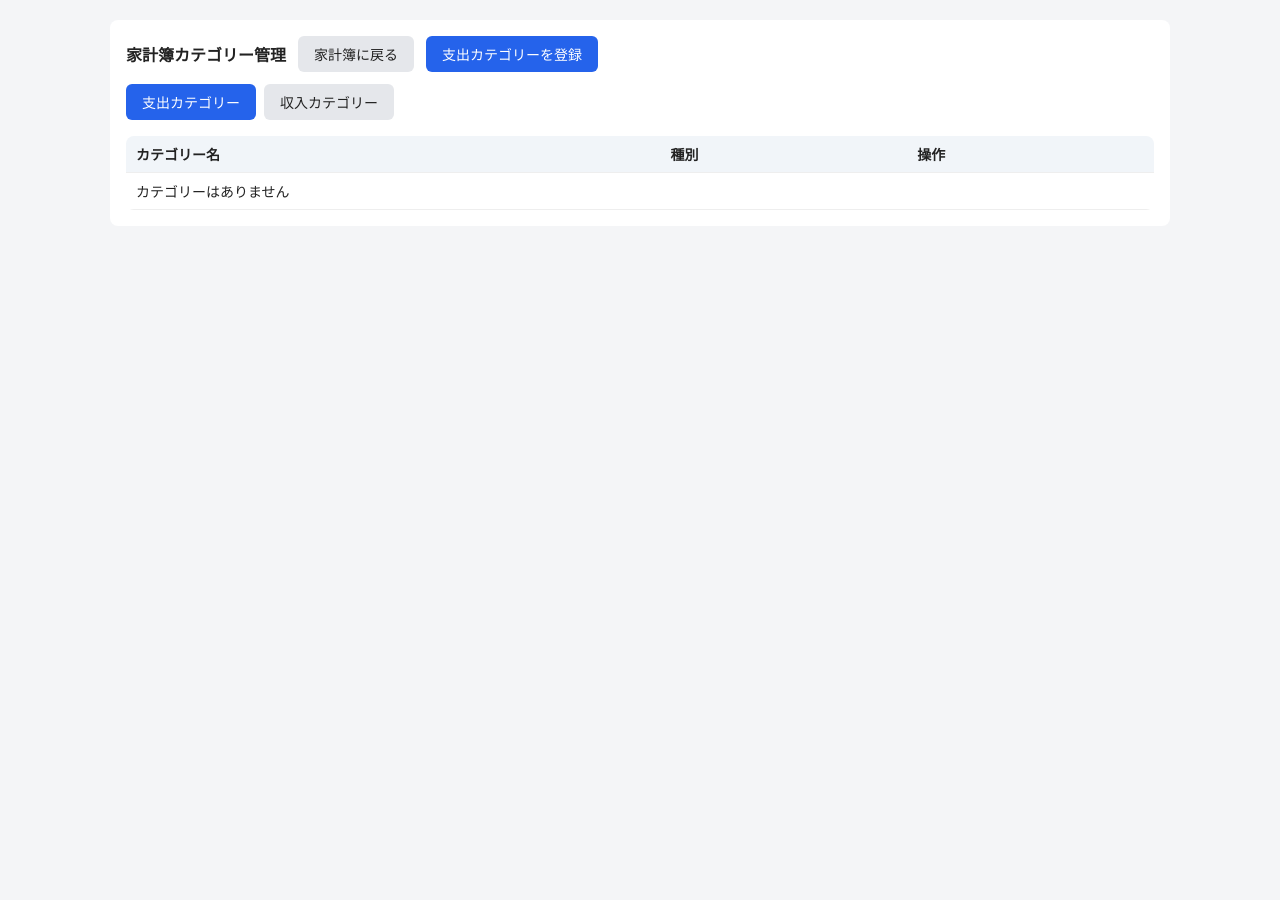
Test case: KakeiboCategoriesPage › 支出カテゴリーを登録するとPOST /api/kakeibo-categoriesが呼ばれ一覧に反映される
Expected: the text "カテゴリーはありません" is shown, [126,172,1154,210]
Click the button "支出カテゴリーを登録": x=512, y=54 [426,36,598,72]
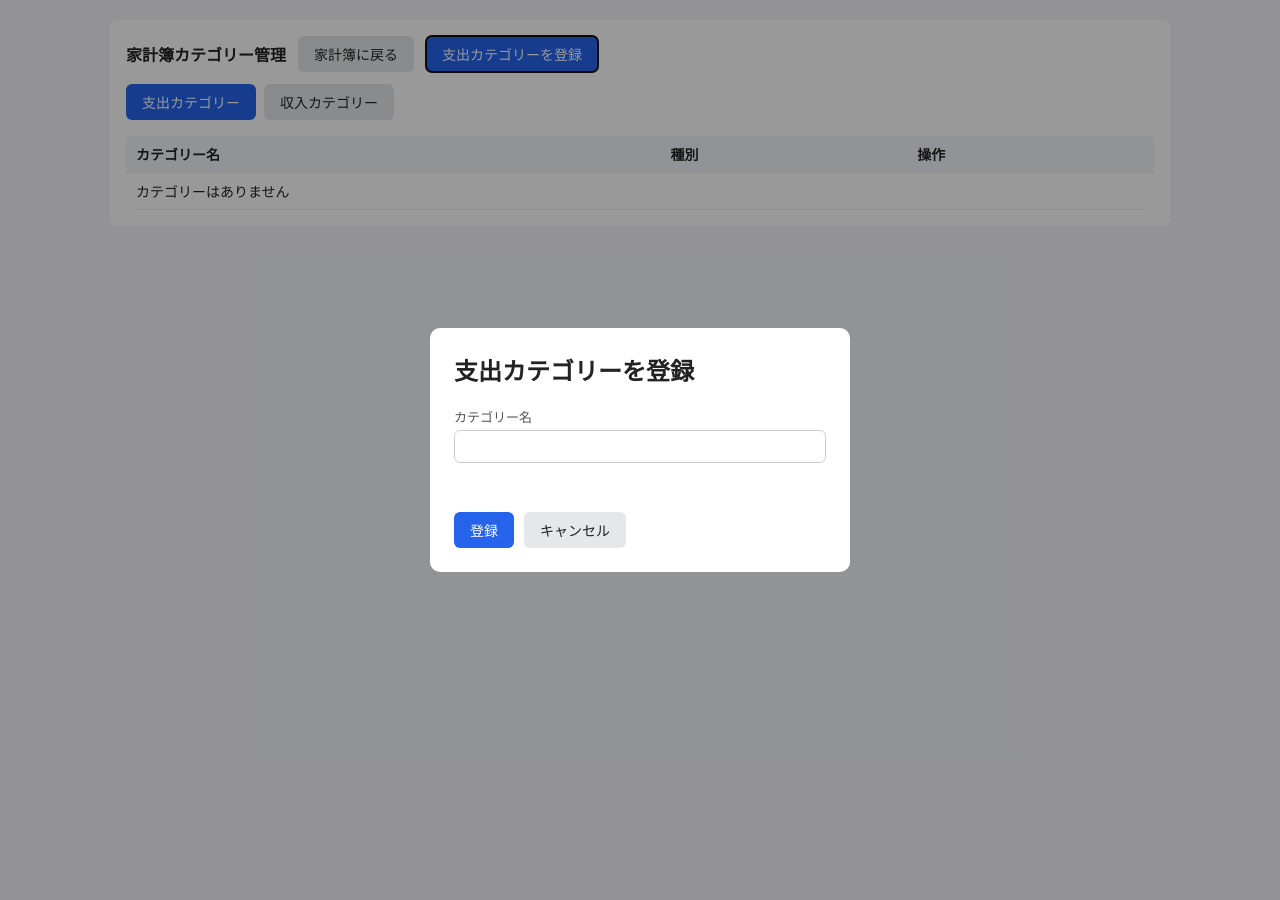
In the field labelled "カテゴリー名": x=640, y=446 [454,430,826,463], type "交通費"
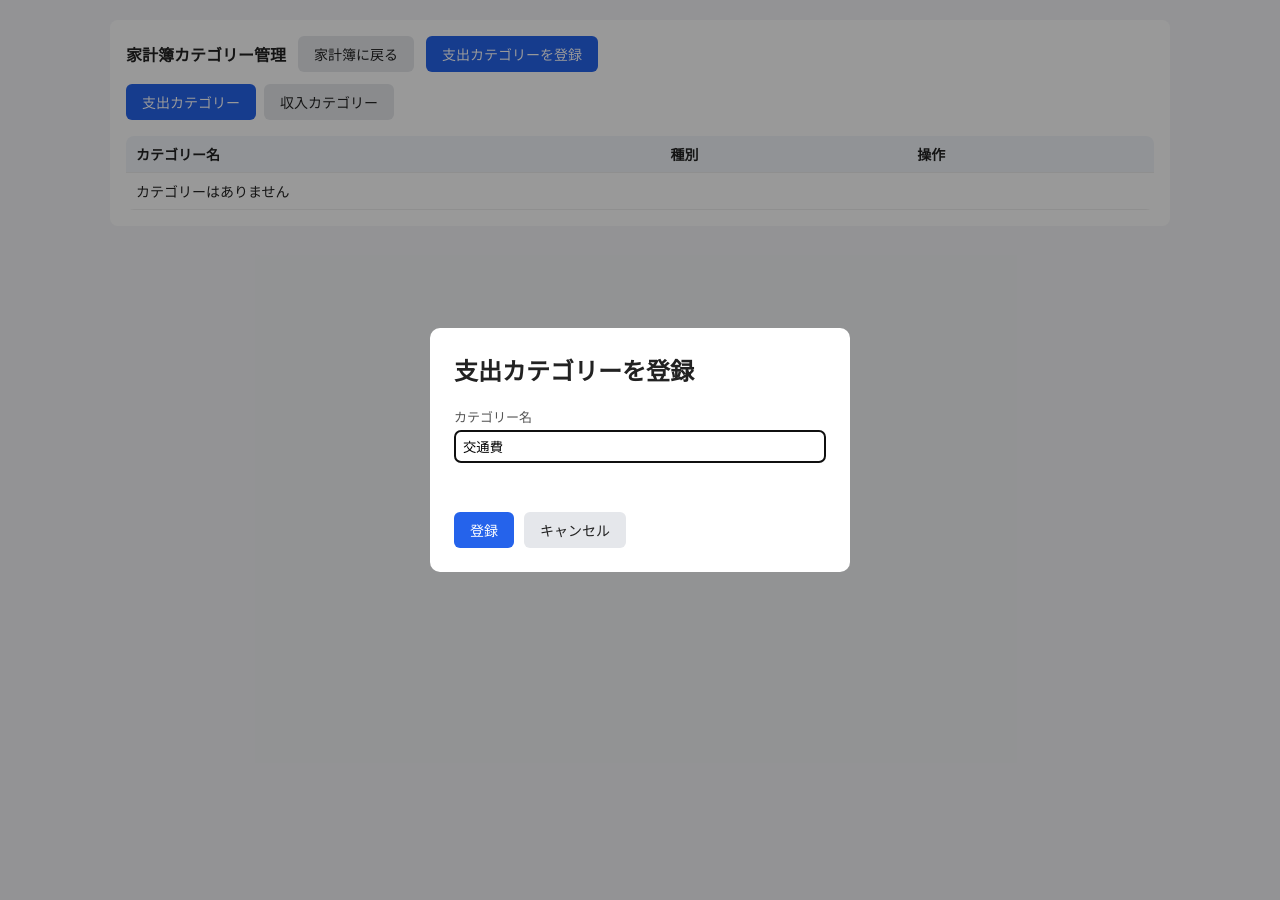
Click the button "登録": x=484, y=530 [454,512,514,548]
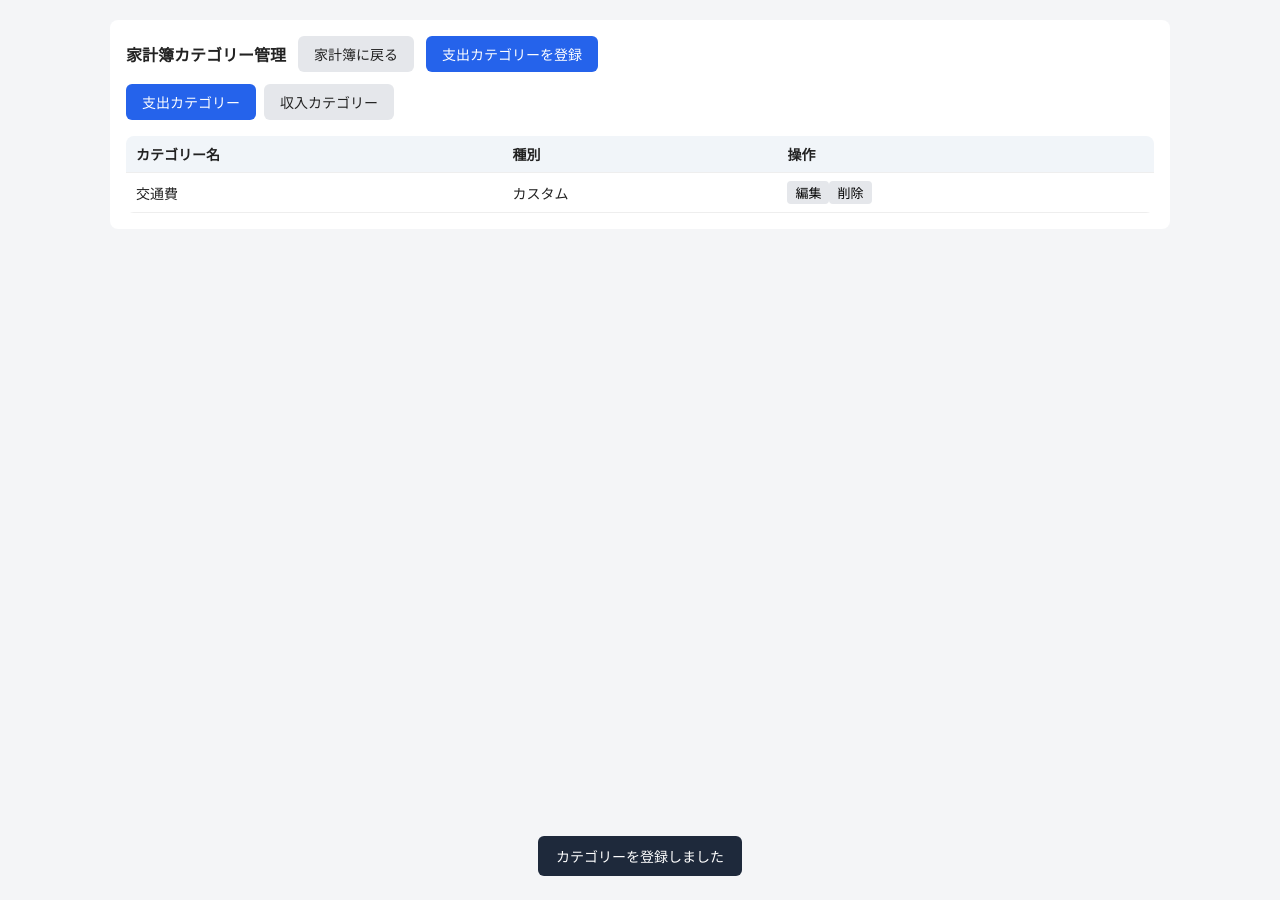
Now the text "交通費" is shown, box [126,172,502,212]
